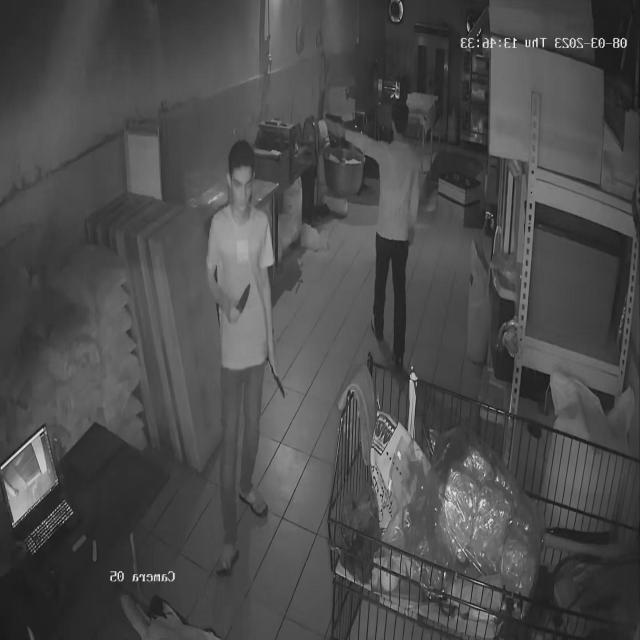Knife: (231, 279, 266, 333)
